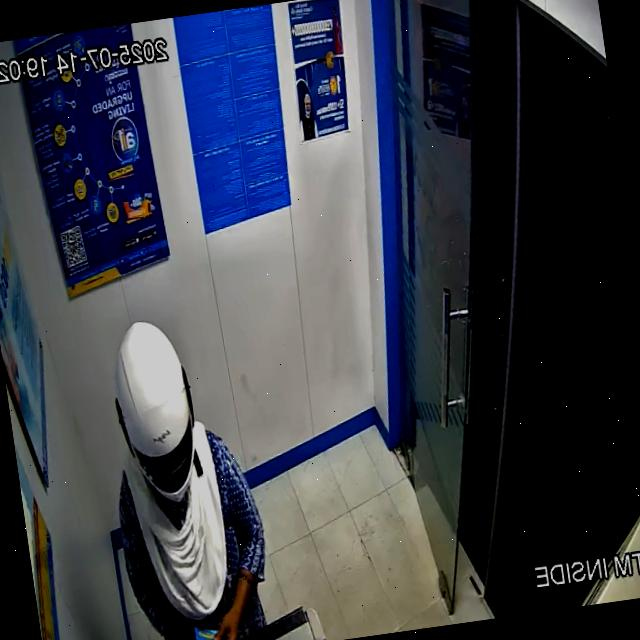helmet: (115, 320, 197, 505)
